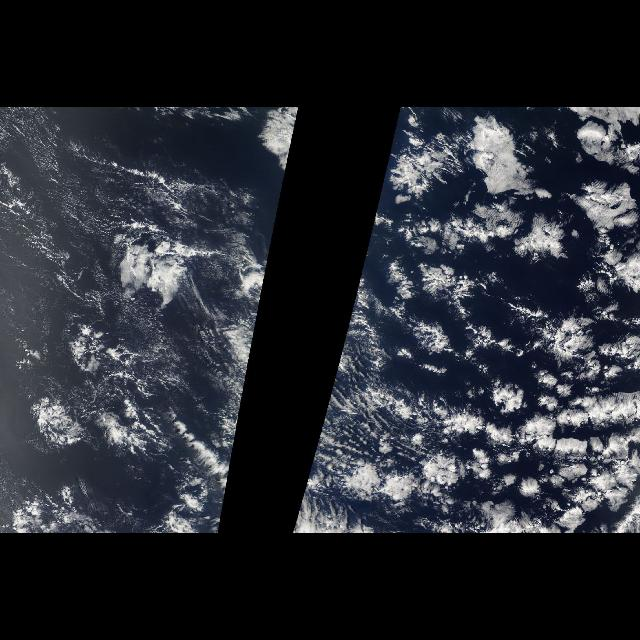Flower: (406, 254, 634, 470)
